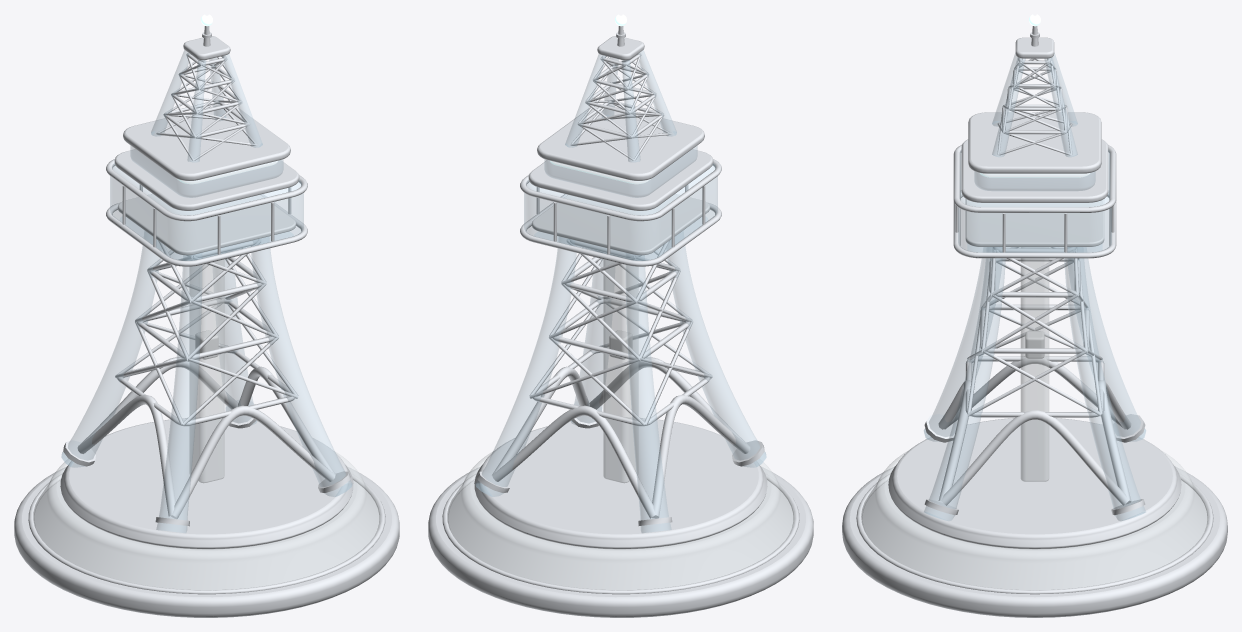
3 views of the same model, side by side, from view 1: azimuth 30°, elevation 25°; view 2: azimuth 150°, elevation 25°; view 3: azimuth 270°, elevation 25° (orthographic).
Visible parts, largest first — view 1: MiraiTower_ChessPiece; view 2: MiraiTower_ChessPiece; view 3: MiraiTower_ChessPiece.
Part boxes in pixels (x1=…): MiraiTower_ChessPiece: x1=14, y1=14, x2=399, y2=617; MiraiTower_ChessPiece: x1=428, y1=14, x2=813, y2=617; MiraiTower_ChessPiece: x1=842, y1=14, x2=1227, y2=617.
Size of the model in its own units: 2 by 3 by 2.
